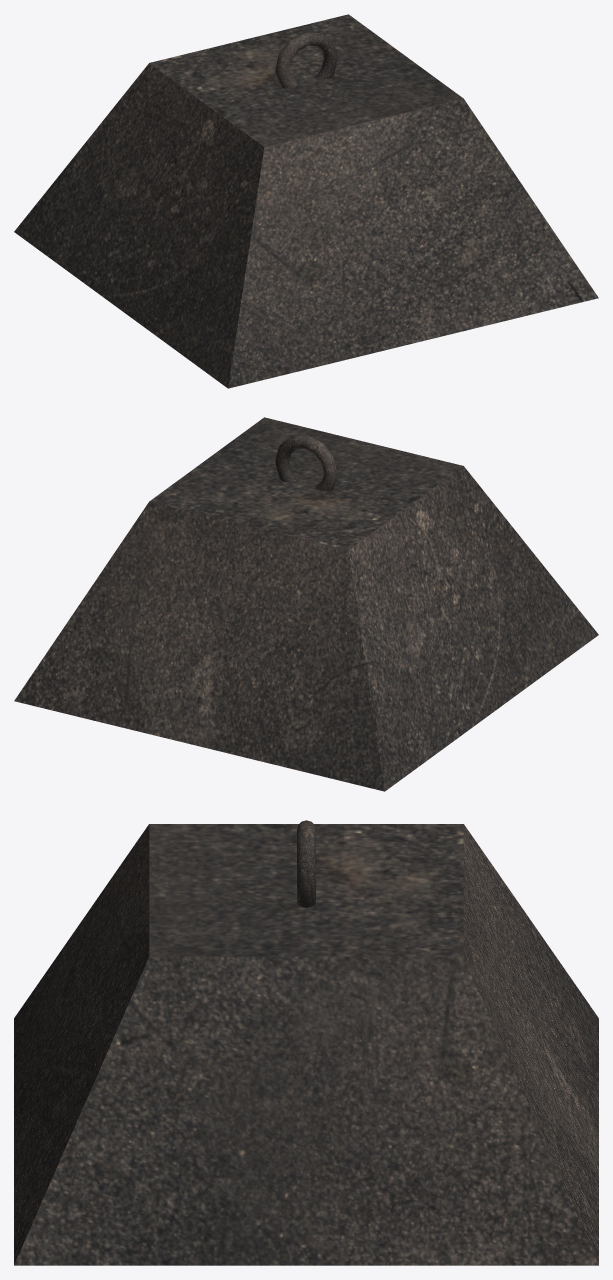
The model's file is weight.fbx.
3 renders of one model, top to bottom at view 1: azimuth 30°, elevation 25°; view 2: azimuth 150°, elevation 25°; view 3: azimuth 270°, elevation 25°, orthographic. The views are drawn at different scales.
Parts seen in each view (by area): view 1: pCube1, pTorus1; view 2: pCube1, pTorus1; view 3: pCube1, pTorus1.
Part boxes in pixels (x1,y1,x2,y2): pCube1: [14, 14, 598, 388]; pTorus1: [275, 32, 337, 88]; pCube1: [14, 417, 598, 791]; pTorus1: [275, 435, 337, 491]; pCube1: [14, 824, 598, 1265]; pTorus1: [297, 820, 315, 907].
Size of the model in its own units: 3.04 by 1.82 by 3.04.
1 material, 1 textured.
